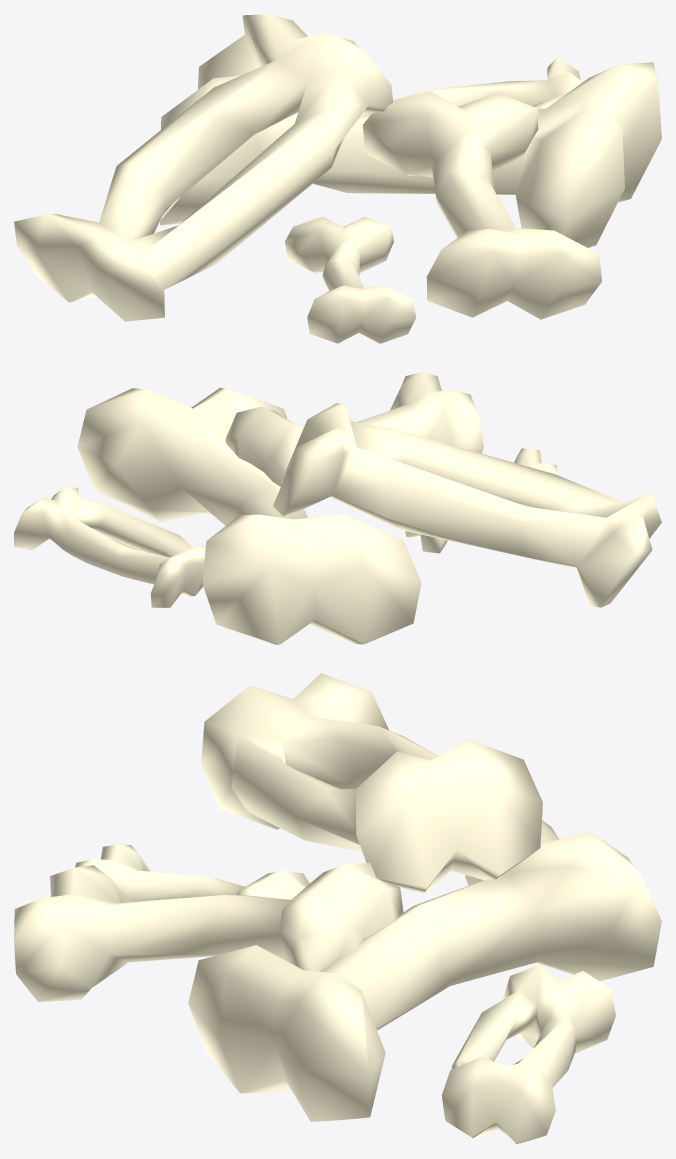
File: PileOfBones.glb
3 renders of one model, top to bottom at view 1: azimuth 30°, elevation 25°; view 2: azimuth 150°, elevation 25°; view 3: azimuth 270°, elevation 25°, orthographic. The views are drawn at different scales.
Parts seen in each view (by area): view 1: PileOfBones; view 2: PileOfBones; view 3: PileOfBones.
Boxes of the visible parts, x1=… form: PileOfBones: x1=14, y1=14, x2=661, y2=343; PileOfBones: x1=14, y1=372, x2=661, y2=644; PileOfBones: x1=14, y1=673, x2=661, y2=1144.
Size of what is drawn, in the model's own units: 0.8575 by 0.2843 by 0.6762.
Materials: 1 (1 with a texture image).
